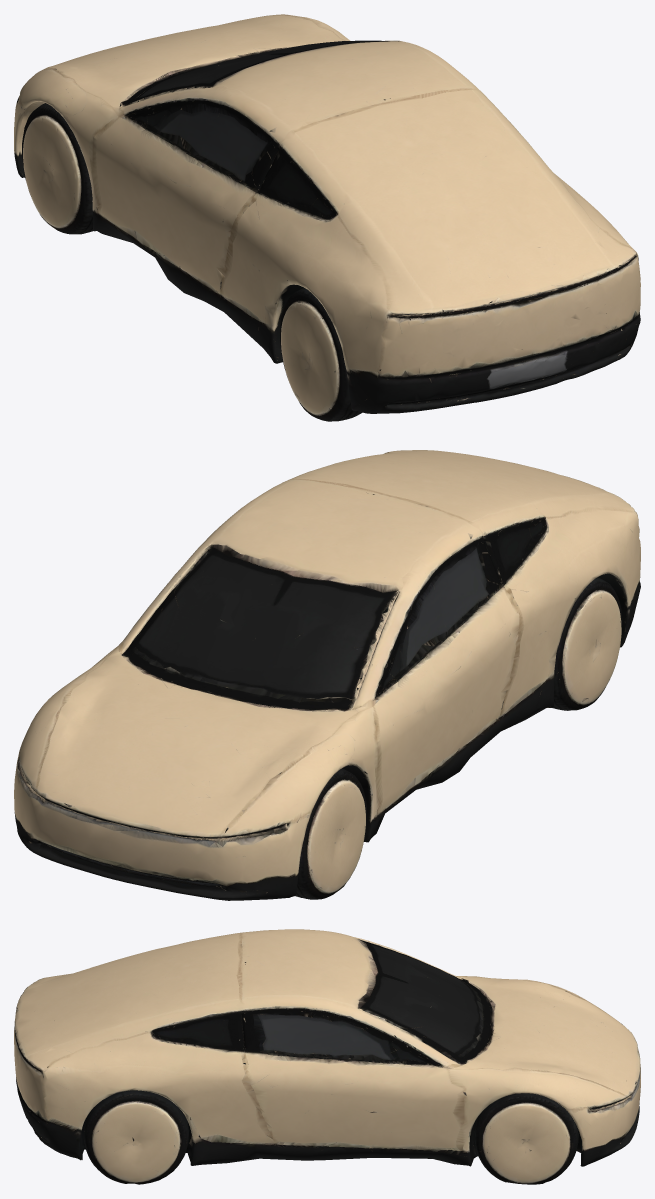
The model's file is compare-smoothed.glb.
3 renders of one model, top to bottom at view 1: azimuth 30°, elevation 25°; view 2: azimuth 150°, elevation 25°; view 3: azimuth 270°, elevation 25°, orthographic. The views are drawn at different scales.
Parts seen in each view (by area): view 1: Meshy_Cybercab_ClosedDoors; view 2: Meshy_Cybercab_ClosedDoors; view 3: Meshy_Cybercab_ClosedDoors.
Part boxes in pixels (left/top/right/bottom): Meshy_Cybercab_ClosedDoors: left=14, top=14, right=640, bottom=421; Meshy_Cybercab_ClosedDoors: left=14, top=450, right=640, bottom=900; Meshy_Cybercab_ClosedDoors: left=14, top=929, right=640, bottom=1184.
Size of the model in its own units: 1.84 by 1.36 by 4.45.
Materials: 1 (1 with a texture image).
